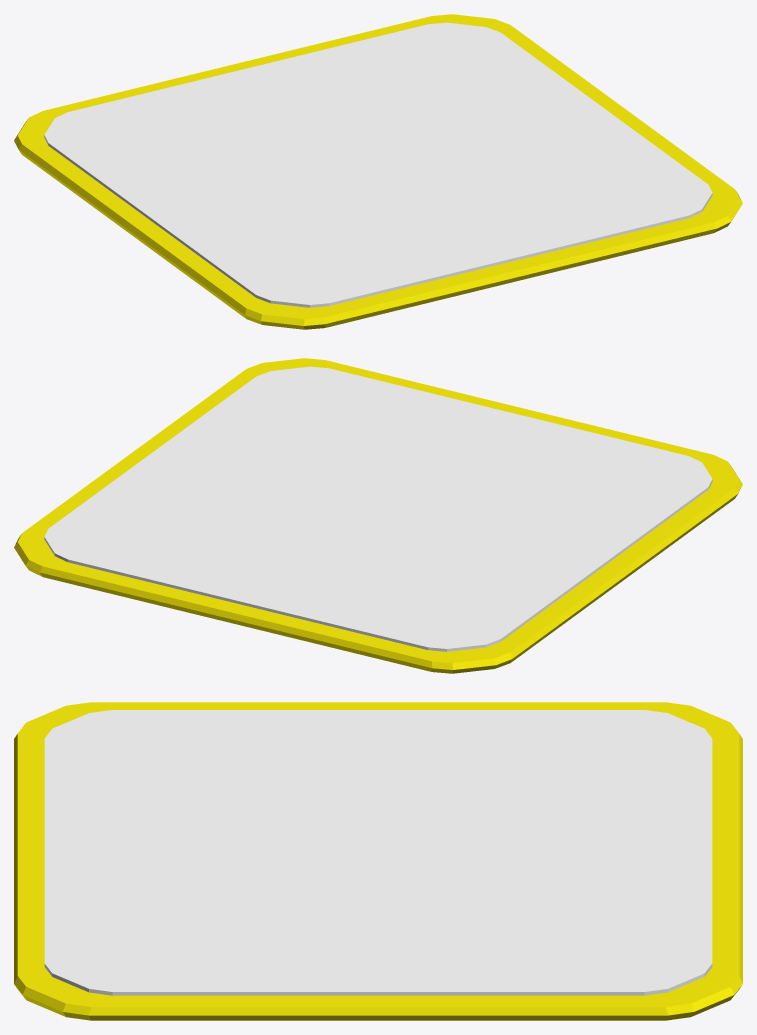
Rendered from TurnTrig.glb.
3 renders of one model, top to bottom at view 1: azimuth 30°, elevation 25°; view 2: azimuth 150°, elevation 25°; view 3: azimuth 270°, elevation 25°, orthographic. The views are drawn at different scales.
Visible parts, largest first — view 1: Icon, Frame; view 2: Icon, Frame; view 3: Icon, Frame.
Boxes of the visible parts, x1,y1,x2,y2 form: Icon: [44, 22, 712, 307]; Frame: [14, 14, 742, 329]; Icon: [44, 366, 712, 651]; Frame: [14, 358, 742, 673]; Icon: [44, 710, 712, 995]; Frame: [14, 702, 742, 1020].
Size of the model in its own units: 0.9634 by 0.0253 by 0.9634.
2 materials, 2 textured.
